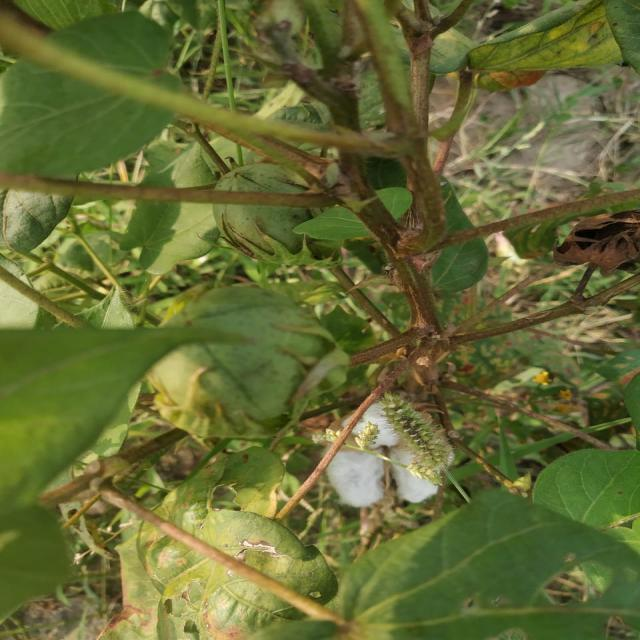Early Boll: (141, 287, 349, 429), (208, 162, 336, 260)
Matured Cotton Boll: (325, 408, 457, 512)
